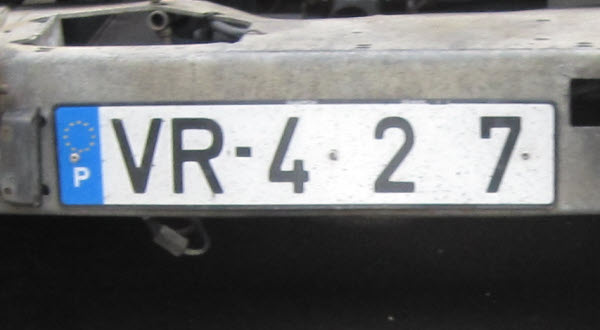license_plate: (53, 102, 558, 207)
